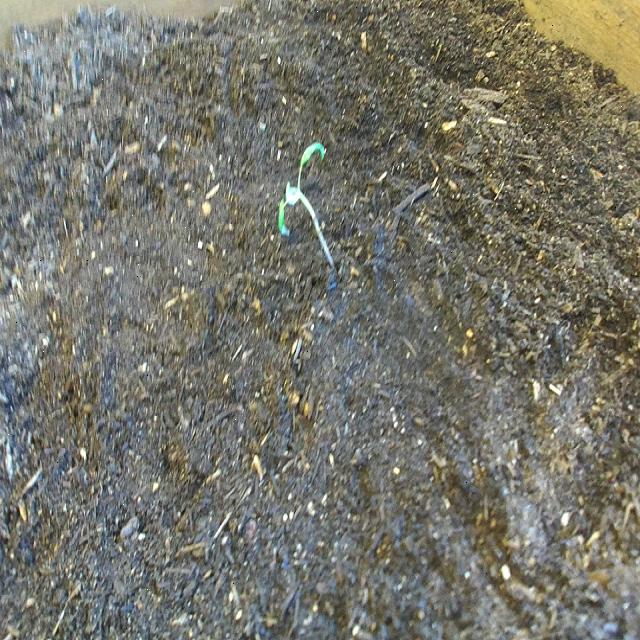Healthy: (271, 127, 356, 293)
